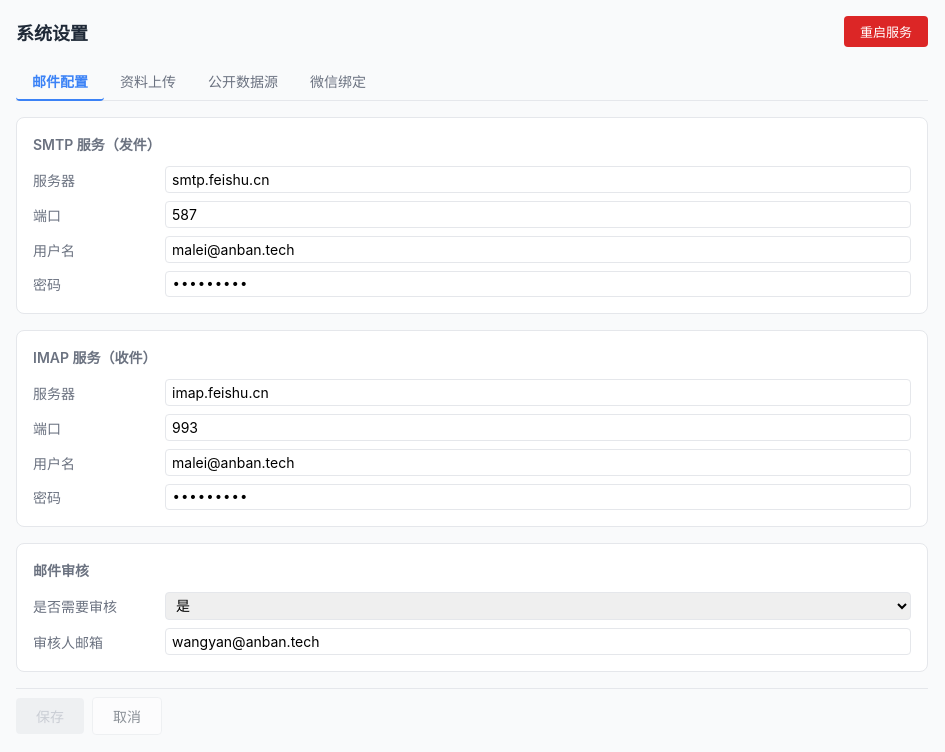
Test: Settings 邮件配置 tab - 常驻可编辑 + 底部统一保存 › PATCH 失败 → 显示错误提示
Expected: the button with test id "email-config-save" is shown, [16,698,84,734]
Replace the text in the field with test id "smtp-host" with "smtp.new.cn" at [538, 180], box [165,166,911,193]
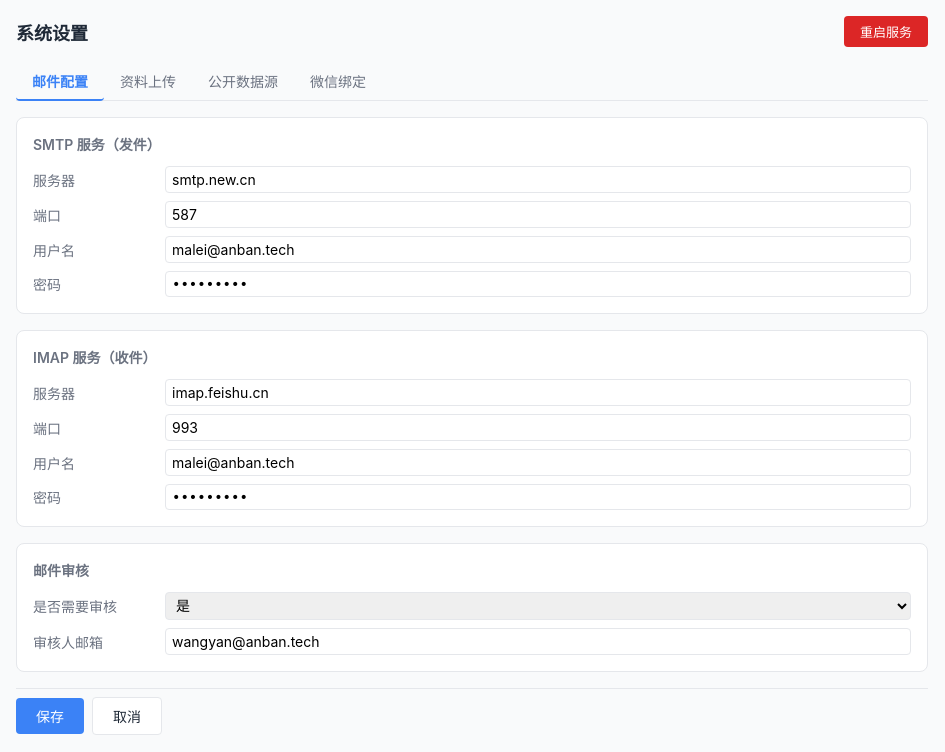
Click the button with test id "email-config-save".
click(50, 716)  # box [16,698,84,734]
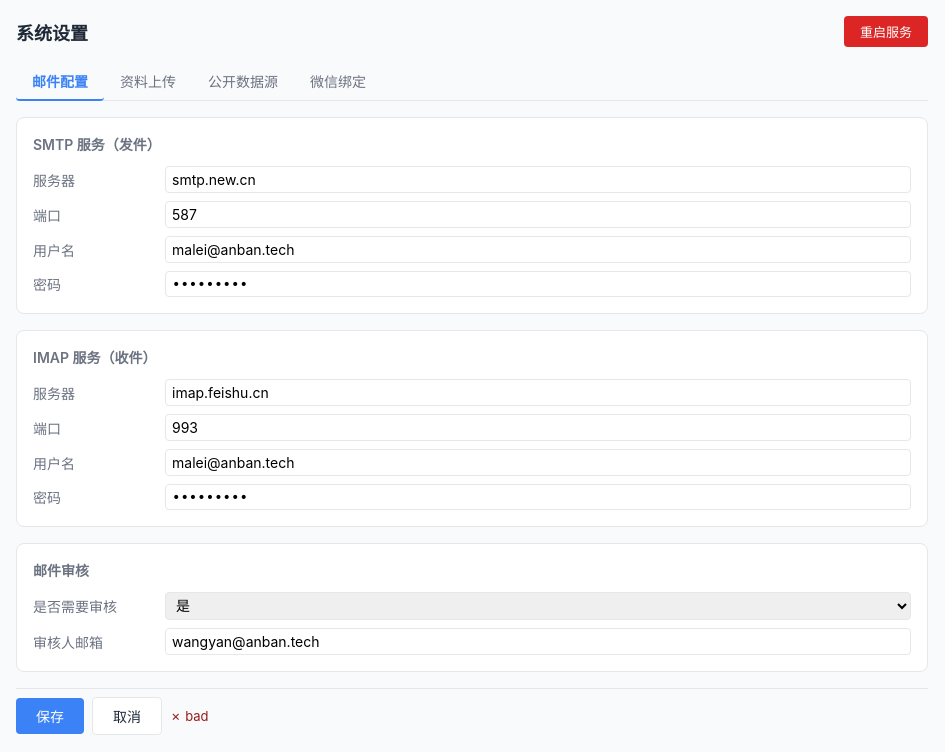
Result: the button with test id "email-config-save" is enabled at [16,698,84,734]
Result: the text "✗ bad" is shown at [170,708,208,724]
Result: the text with test id "email-config-error" shows "bad" at [185,708,209,724]
